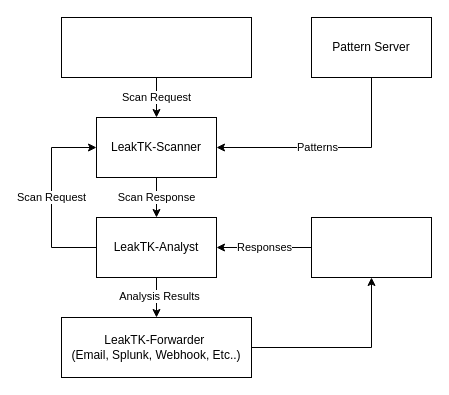
The diagram is 449 pixels wide and 395 high, and some of its shapes have lost their labels. The centre of each missing label's shape, as x and y in pixels:
LeakTK-Monitor (GitHub, GitLab, Jira, Etc..): (x=156, y=47)
Users & External Systems: (x=371, y=247)
